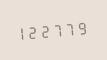nine: (78, 17, 89, 36)
one: (17, 23, 28, 42)
seven: (54, 19, 65, 38), (66, 18, 77, 37)
two: (29, 22, 40, 41), (42, 21, 53, 40)
